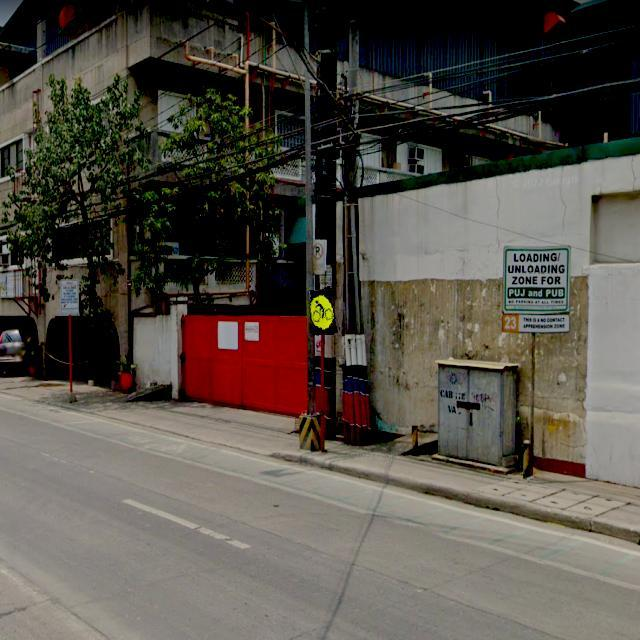bike lane: (309, 287, 341, 335)
